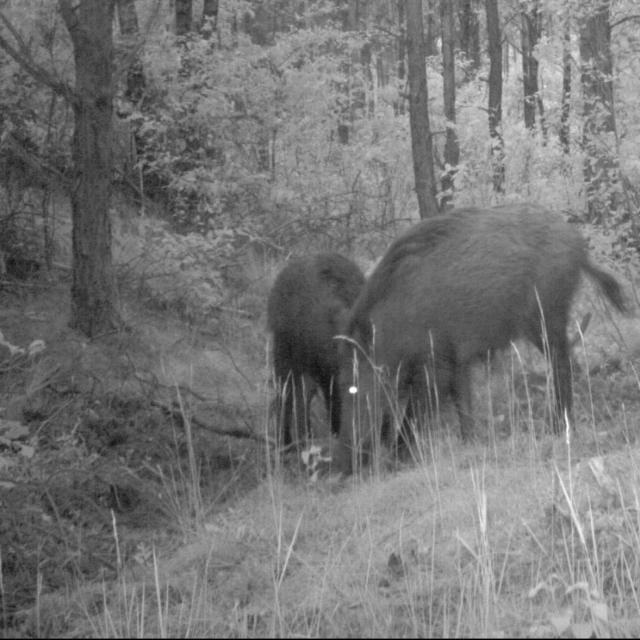pig: (325, 196, 626, 479)
